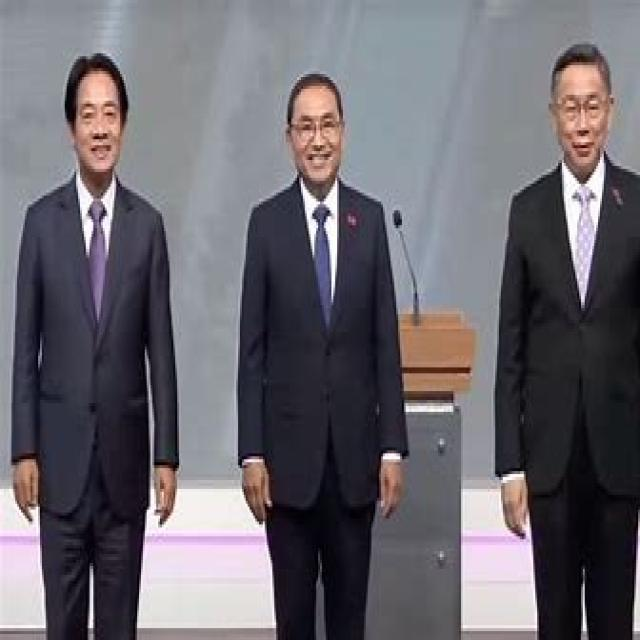stand: (501, 30, 640, 640), (246, 53, 385, 640), (24, 60, 147, 640)
